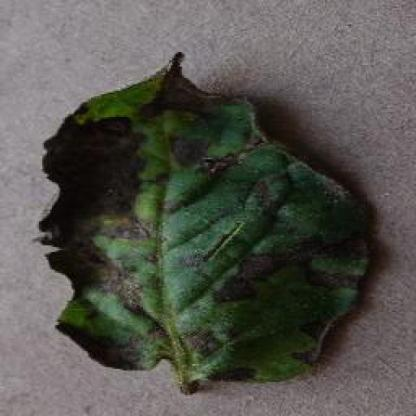Tomato_Blight: (39, 51, 370, 379)
